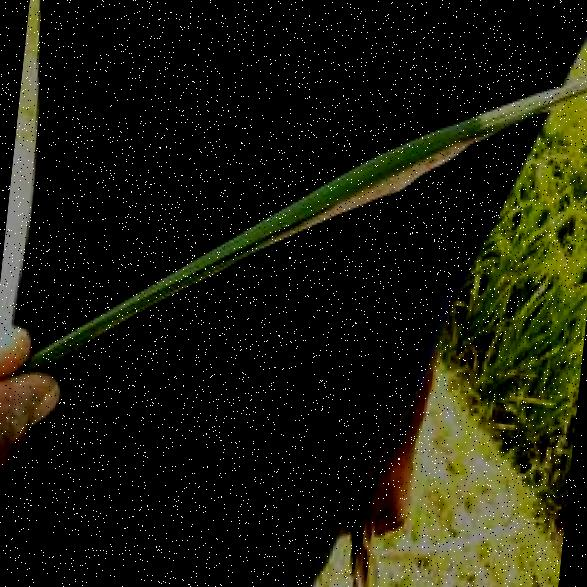Bacteria_Leaf_Blight: (304, 114, 503, 233)
